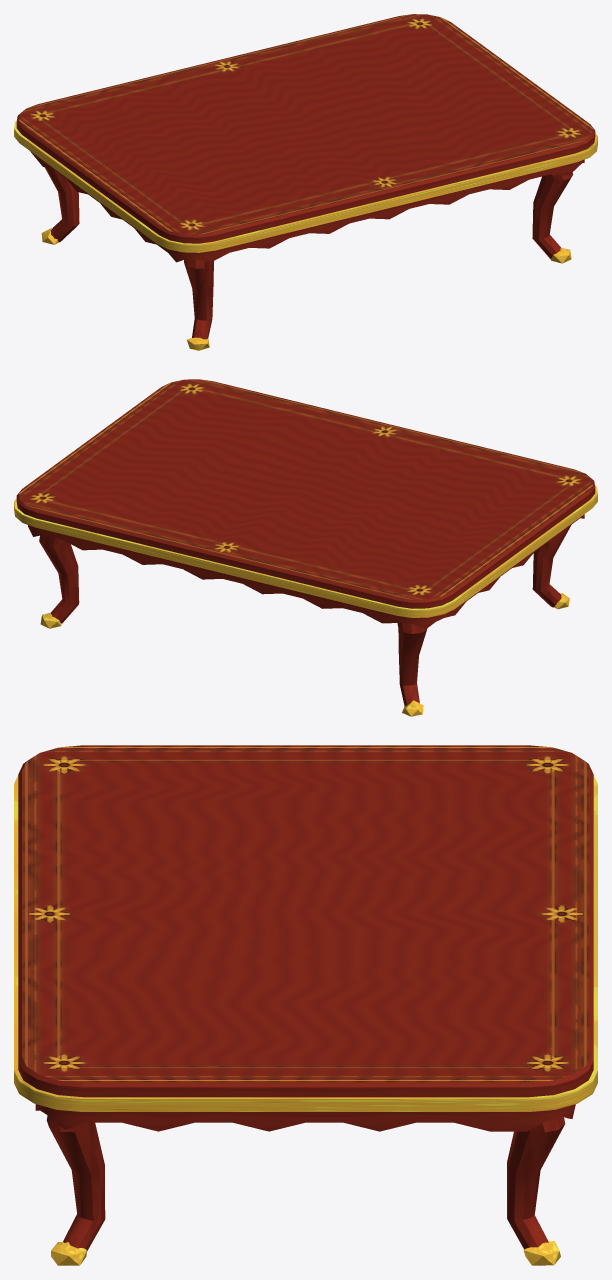
File: Table_Royal.fbx
The picture shows the model from 3 angles, top to bottom: view 1: azimuth 30°, elevation 25°; view 2: azimuth 150°, elevation 25°; view 3: azimuth 270°, elevation 25°; orthographic projection. The views are drawn at different scales.
Visible parts, largest first — view 1: Table_Royal; view 2: Table_Royal; view 3: Table_Royal.
Boxes of the visible parts, x1,y1,x2,y2 form: Table_Royal: [14, 14, 597, 350]; Table_Royal: [14, 379, 597, 716]; Table_Royal: [14, 745, 597, 1265].
Bounding box in the file's own units: 5.66 × 1.6 × 4.06.
Materials: 1 (1 with a texture image).
